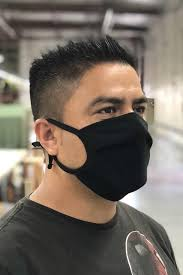with-mask: (29, 41, 160, 206)
